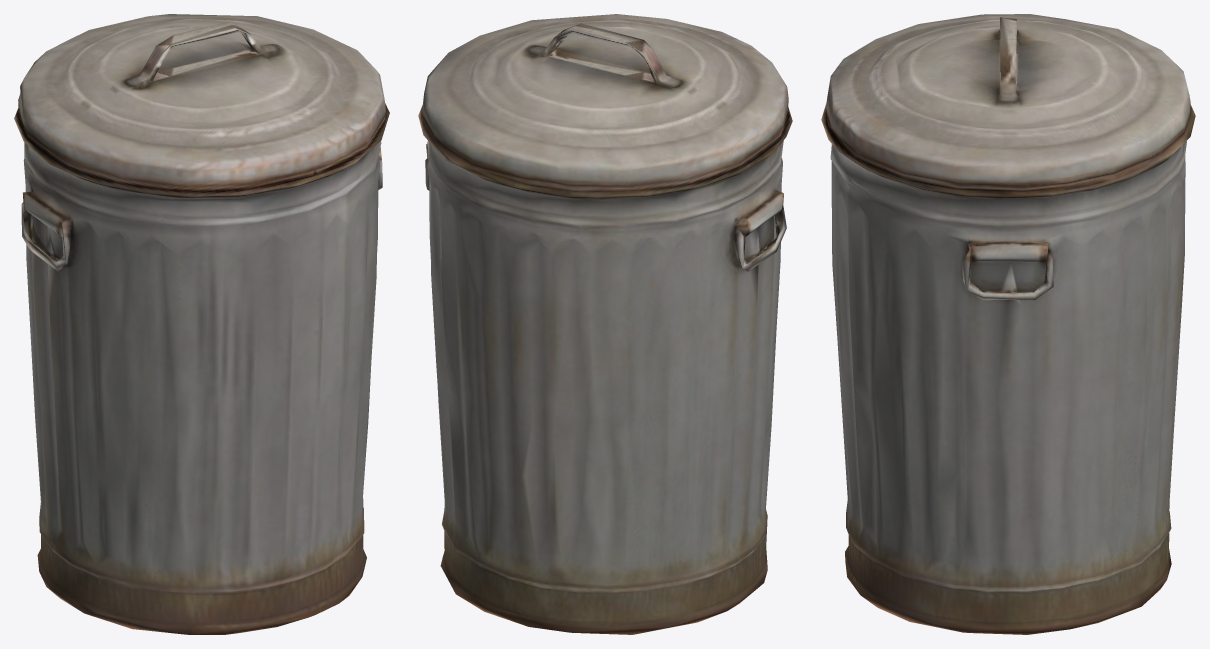
The model's file is kw_trash.glb.
The picture shows the model from 3 angles, left to right: view 1: azimuth 30°, elevation 25°; view 2: azimuth 150°, elevation 25°; view 3: azimuth 270°, elevation 25°; orthographic projection.
Parts seen in each view (by area): view 1: frame; view 2: frame; view 3: frame.
Boxes of the visible parts, x1=… form: frame: x1=14, y1=14, x2=389, y2=634; frame: x1=418, y1=14, x2=792, y2=634; frame: x1=821, y1=14, x2=1195, y2=634.
Bounding box in the file's own units: 0.6395 × 1 × 0.6346.
Materials: 1 (1 with a texture image).
